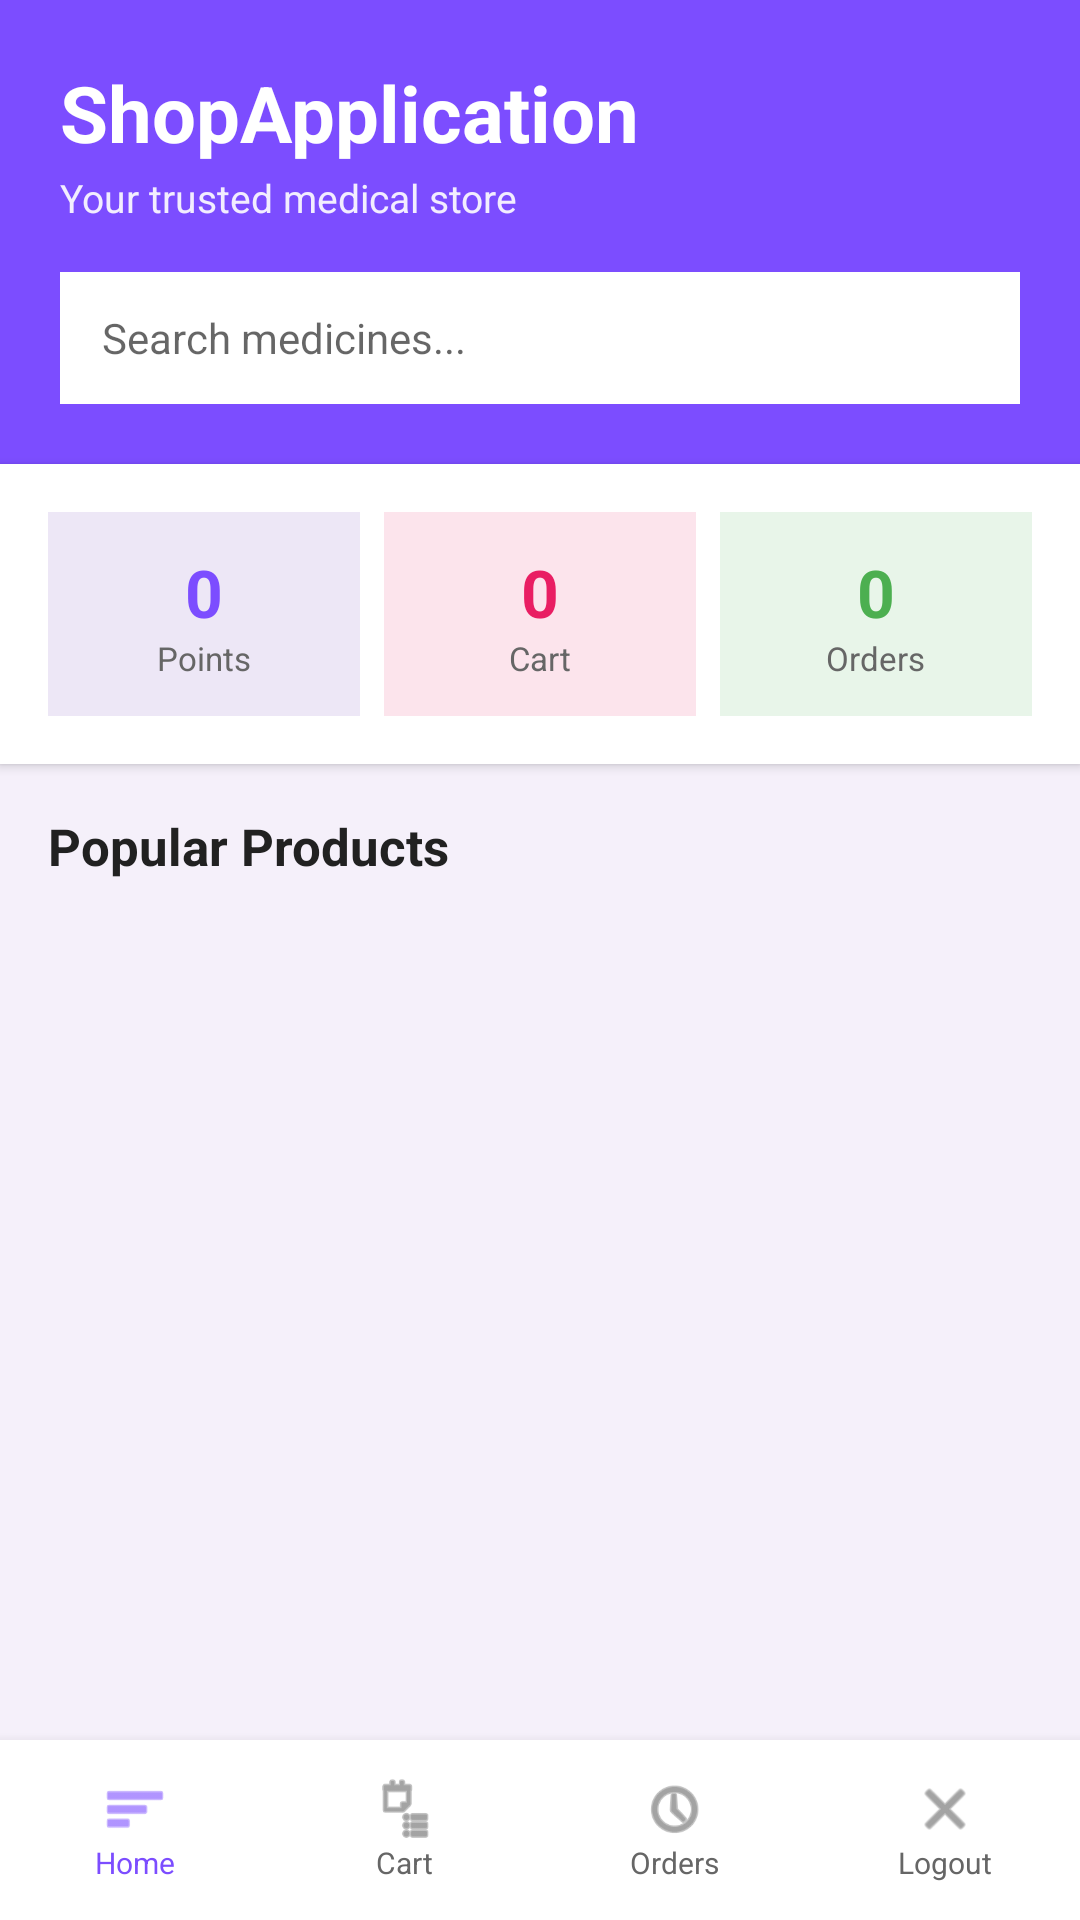

Icons on this 1080w x 1920h Android screen, each with its box as box=[x1, y1, x2, y2]:
agenda: box=[382, 1779, 428, 1838]
close clear cancel: box=[925, 1789, 965, 1829]
recent history: box=[651, 1786, 698, 1833]
sort by size: box=[107, 1791, 163, 1828]
